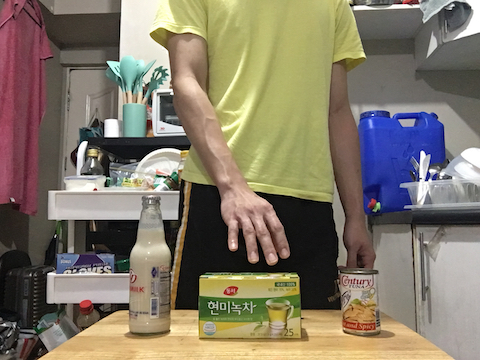bottle: (126, 191, 176, 337)
box: (196, 270, 304, 344)
can: (337, 264, 384, 341)
